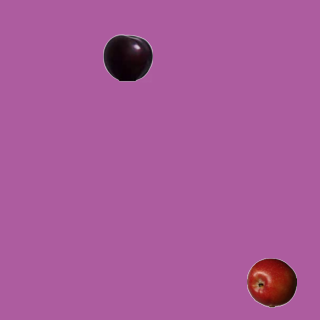Apple Braeburn: (246, 257, 296, 307)
Cherry Wax Black: (102, 32, 152, 82)
